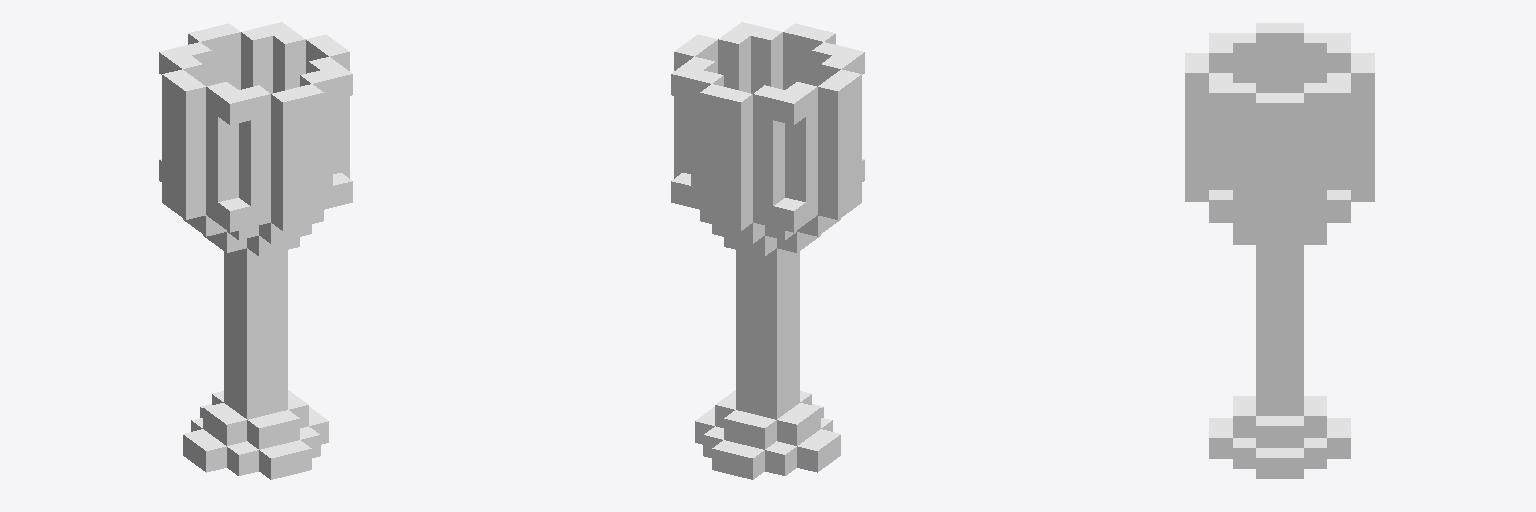
File: prop_glass_wine.obj
The picture shows the model from 3 angles: view 1: azimuth 30°, elevation 25°; view 2: azimuth 150°, elevation 25°; view 3: azimuth 270°, elevation 25°; orthographic projection.
Visible parts, largest first — view 1: object 1; view 2: object 1; view 3: object 1.
Part boxes in pixels (x1,y1,x2,y2): object 1: (159,22,352,479); object 1: (671,22,864,479); object 1: (1185,23,1374,478).
Bounding box in the file's own units: 0.8 × 1.8 × 0.8.